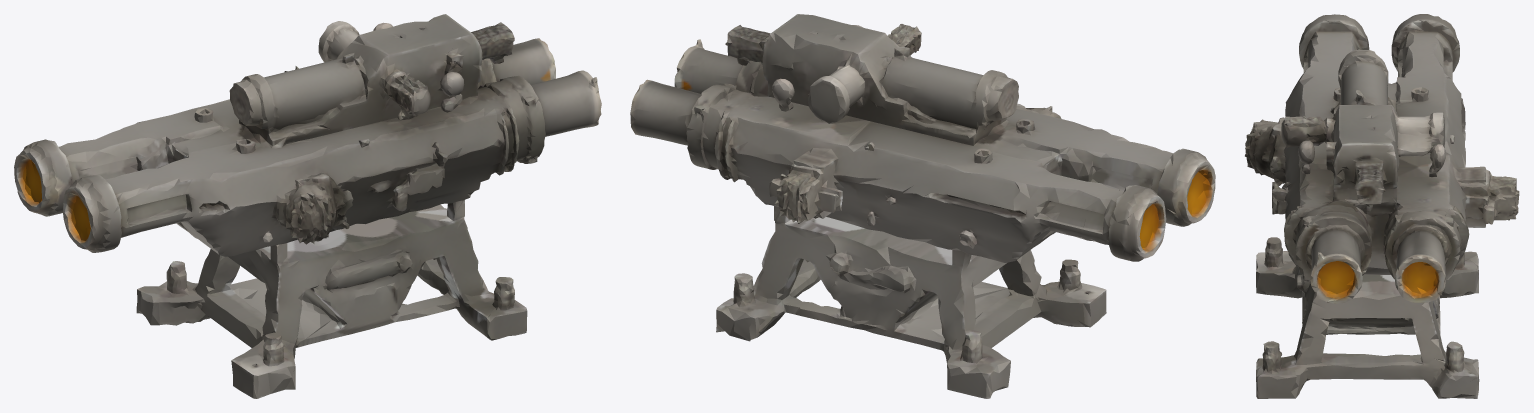
Rendered from falcon_weapon_secondary.glb.
3 views of the same model, side by side, from view 1: azimuth 30°, elevation 25°; view 2: azimuth 150°, elevation 25°; view 3: azimuth 270°, elevation 25° (orthographic). The views are drawn at different scales.
Visible parts, largest first — view 1: falcon_weapon_secondary; view 2: falcon_weapon_secondary; view 3: falcon_weapon_secondary.
Boxes of the visible parts, box(x1,y1,x2,y2) form: falcon_weapon_secondary: box(14, 14, 601, 398); falcon_weapon_secondary: box(630, 14, 1215, 398); falcon_weapon_secondary: box(1245, 14, 1519, 398).
Size of the model in its own units: 1.89 by 0.9523 by 0.9428.
Materials: 1 (1 with a texture image).
